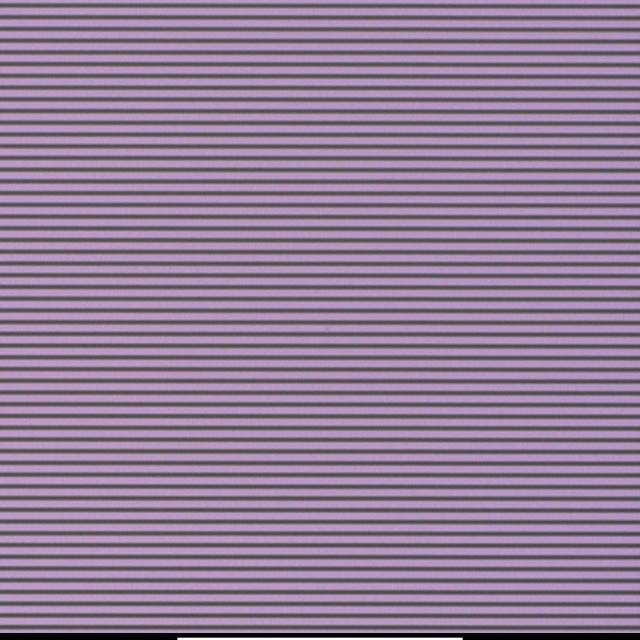nonvisual: (324, 325, 331, 334)
